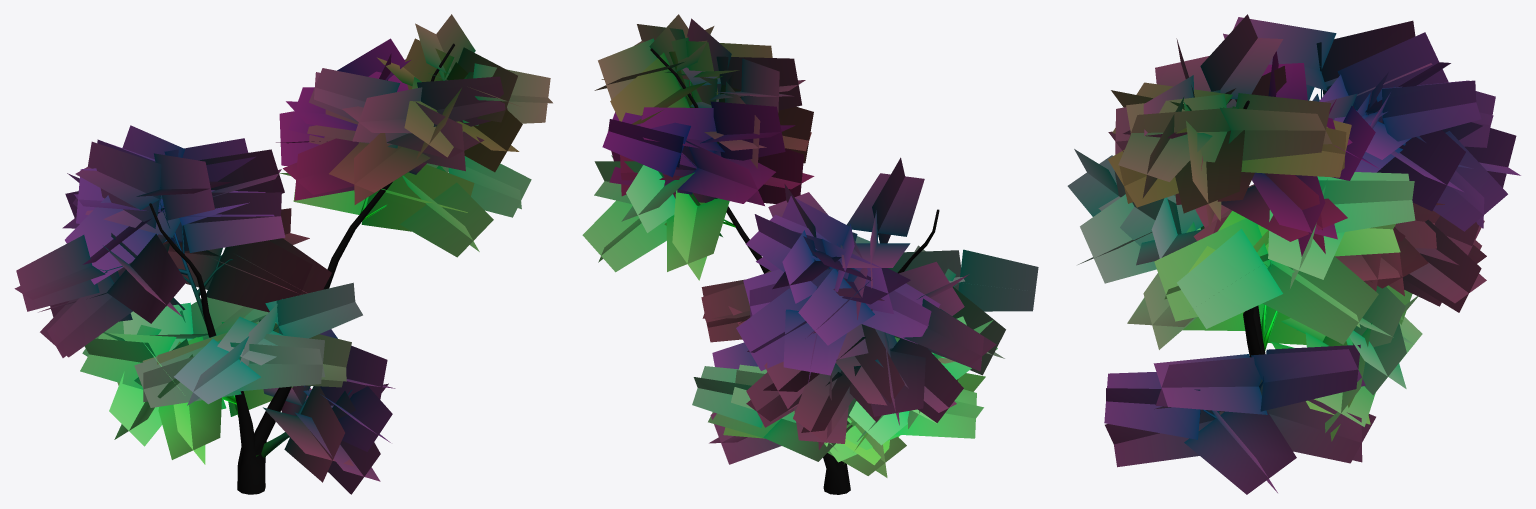
Rendered from M_Realistic12_9.fbx.
3 views of the same model, side by side, from view 1: azimuth 30°, elevation 25°; view 2: azimuth 150°, elevation 25°; view 3: azimuth 270°, elevation 25° (orthographic). The views are drawn at different scales.
Visible parts, largest first — view 1: Tree_9; view 2: Tree_9; view 3: Tree_9.
Part boxes in pixels (x1,y1,x2,y2): Tree_9: (14,14,552,494); Tree_9: (582,14,1038,494); Tree_9: (1067,14,1520,494).
Size of the model in its own units: 1859 by 1615 by 1351.
